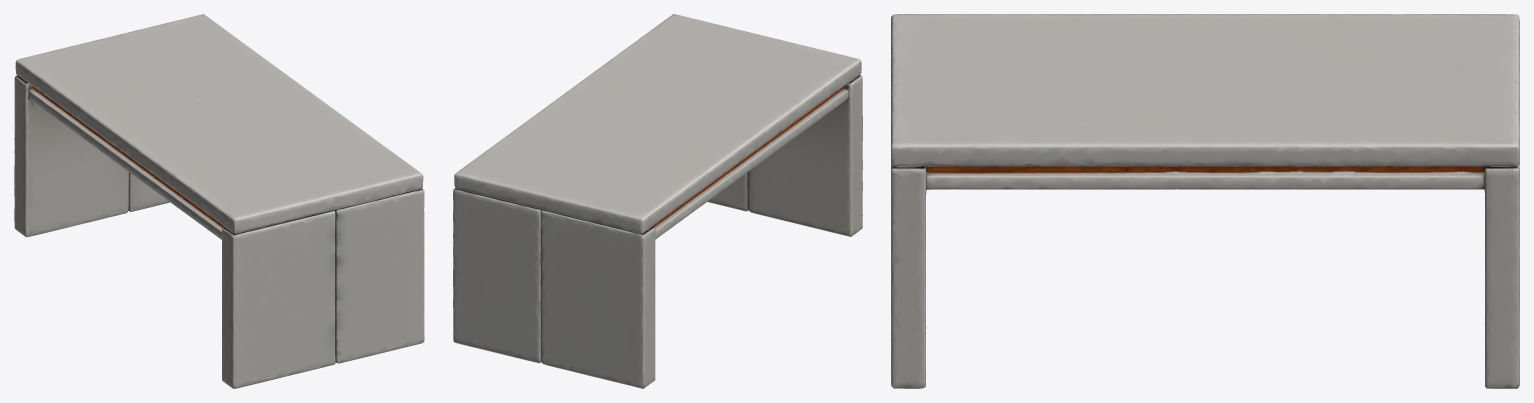
3 renders of one model, left to right at view 1: azimuth 30°, elevation 25°; view 2: azimuth 150°, elevation 25°; view 3: azimuth 270°, elevation 25°, orthographic. The views are drawn at different scales.
Visible parts, largest first — view 1: tripo_node_868f5b54-dd88-4a6c-ab4b-5f31b4b525ac; view 2: tripo_node_868f5b54-dd88-4a6c-ab4b-5f31b4b525ac; view 3: tripo_node_868f5b54-dd88-4a6c-ab4b-5f31b4b525ac.
Part boxes in pixels (bbox=[...]): tripo_node_868f5b54-dd88-4a6c-ab4b-5f31b4b525ac: bbox=[14, 14, 424, 388]; tripo_node_868f5b54-dd88-4a6c-ab4b-5f31b4b525ac: bbox=[453, 14, 862, 388]; tripo_node_868f5b54-dd88-4a6c-ab4b-5f31b4b525ac: bbox=[891, 14, 1519, 388].
Bounding box in the file's own units: 1.01 × 0.8572 × 2.
1 material, 1 textured.
